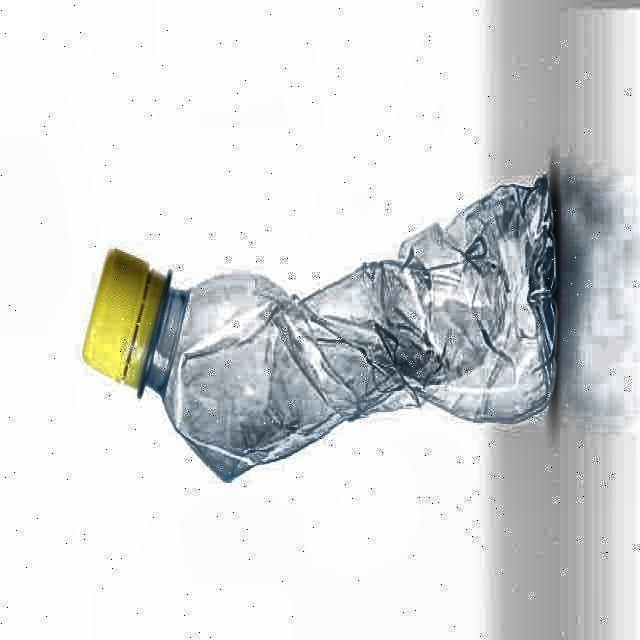plastic: (85, 178, 556, 479)
